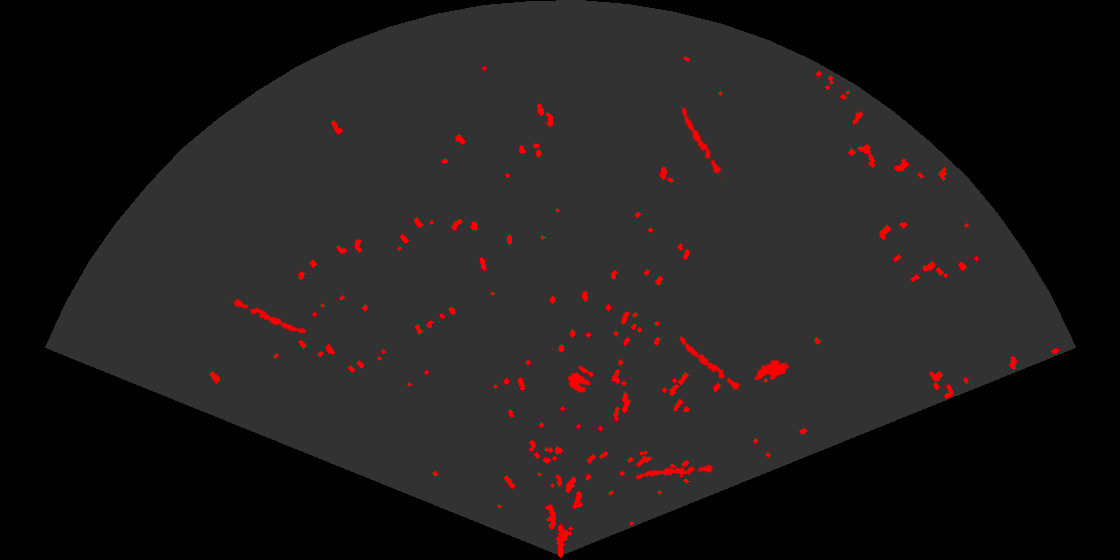AUV: (752, 358, 791, 382)
ball: (566, 364, 596, 395)
chain: (678, 335, 745, 396), (680, 106, 726, 181), (225, 295, 309, 335), (634, 462, 714, 481)
